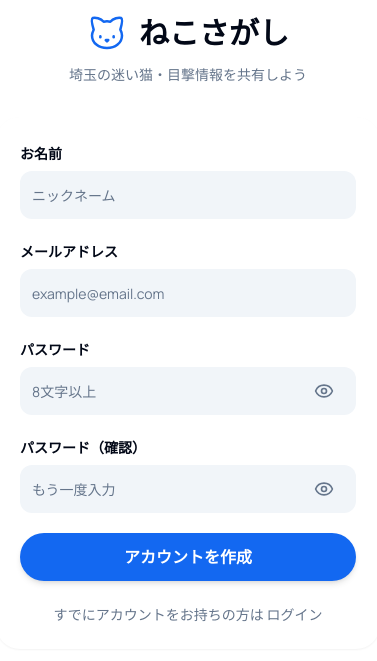
it: Register › 名前が空の時、フィールド下にエラーが表示されること
Type "test@example.com" into the field labelled "メールアドレス" at (188, 293), box [20, 269, 356, 317]
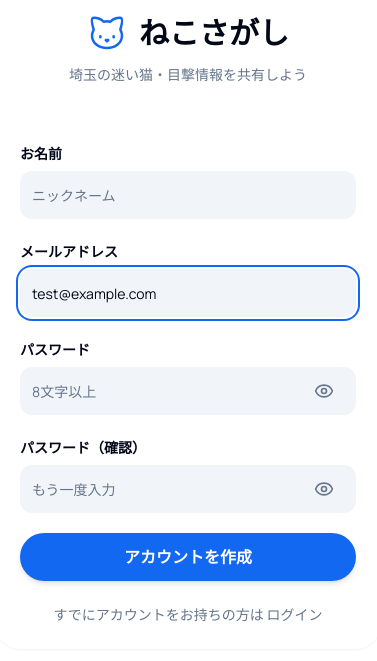
Type "Password123!" into the password field labelled "パスワード" at (188, 391), box [20, 367, 356, 415]
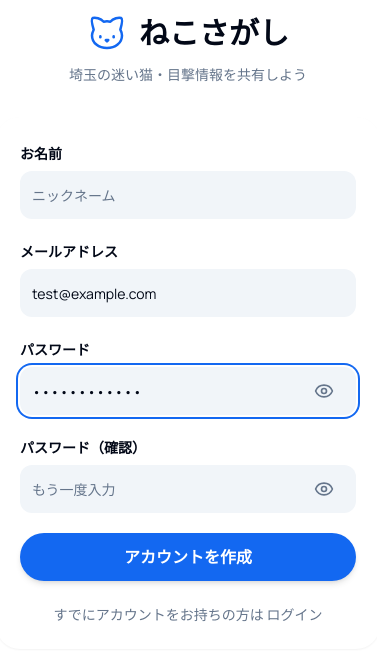
Type "Password123!" into the password field labelled "パスワード（確認）" at (188, 489), box [20, 465, 356, 513]
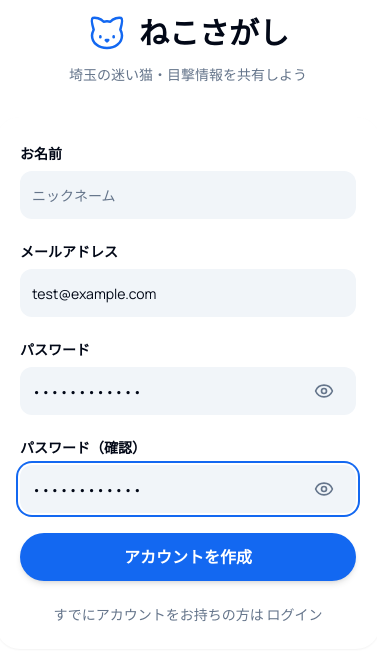
Click the button "アカウントを作成" at (188, 557), box [20, 533, 356, 581]
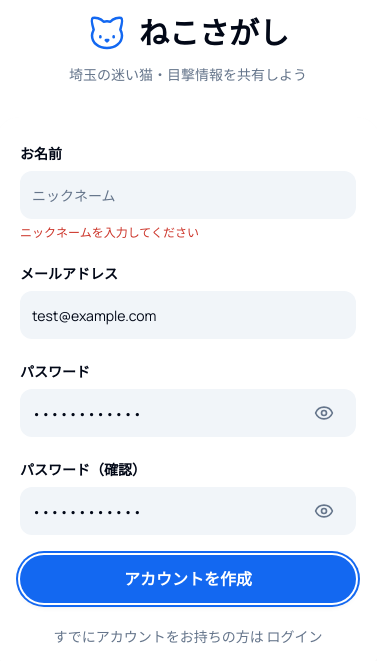
Check: the text "ニックネームを入力してください" is shown, box [20, 224, 199, 241]
